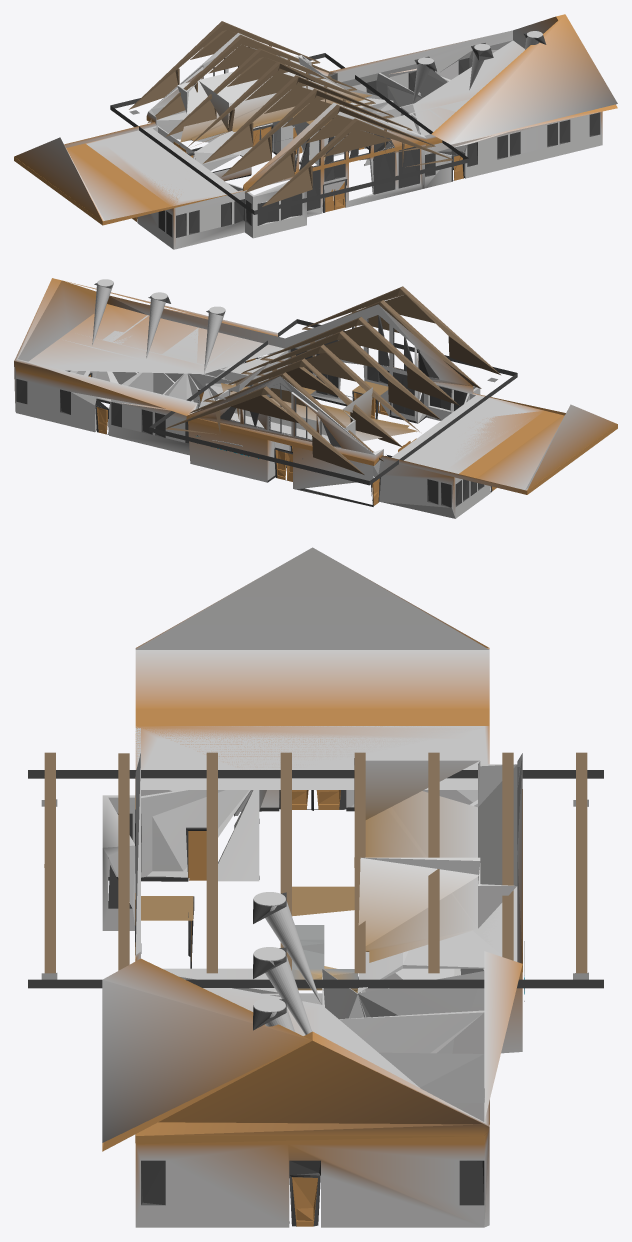
File: terminal.lod2.glb
The picture shows the model from 3 angles, top to bottom: view 1: azimuth 30°, elevation 25°; view 2: azimuth 150°, elevation 25°; view 3: azimuth 270°, elevation 25°; orthographic projection. The views are drawn at different scales.
Visible parts, largest first — view 1: Mesh1_Metal_Aluminum_Anodized_0; view 2: Mesh1_Metal_Aluminum_Anodized_0; view 3: Mesh1_Metal_Aluminum_Anodized_0.
Boxes of the visible parts, x1=… form: Mesh1_Metal_Aluminum_Anodized_0: x1=14, y1=14, x2=617, y2=249; Mesh1_Metal_Aluminum_Anodized_0: x1=14, y1=278, x2=617, y2=518; Mesh1_Metal_Aluminum_Anodized_0: x1=28, y1=547, x2=603, y2=1227.
Bounding box in the file's own units: 39.46 × 7.95 × 19.4.
